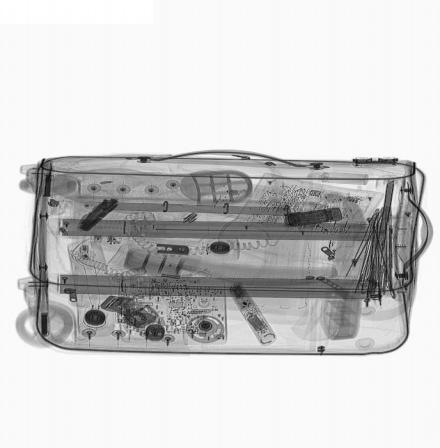Knife: (72, 198, 120, 231)
